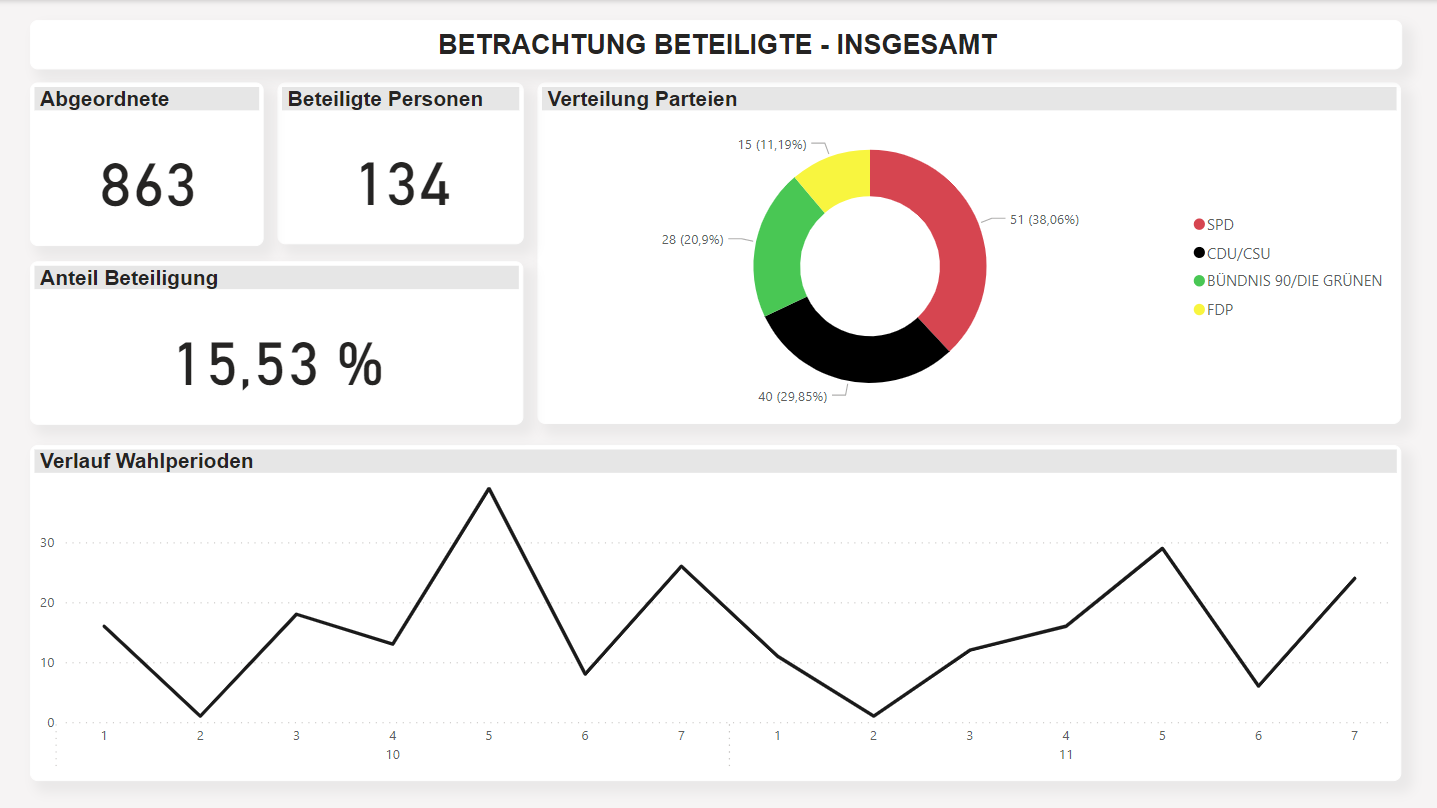

Layout of this report page (visuals, bound fields, positions):
{"tool":"powerbi","page":{"name":"Beteiligte","canvas":[1280,720],"ordinal":2},"visuals":[{"type":"lineChart","title":"Verlauf Wahlperioden","fields":{"Category":["RB.WAHLPERIODE","RB.NR"],"Y":["Measure_Table.% Beteiligte Personen"]},"box":[27.2,395.7,1220.7,299.6],"z":0},{"type":"donutChart","title":"Verteilung Parteien","fields":{"Y":["Count(RB.UID)"],"Category":["RB.PARTEI_KURZ"]},"box":[479,73.7,769,304.4],"z":1000},{"type":"card","title":"Beteiligte Personen","fields":{"Values":["Count(RB.UID)"]},"box":[246.7,73.7,219.5,144.2],"z":2000},{"type":"textbox","box":[26.6,17.5,1222,43.8],"z":3000},{"type":"card","title":"Abgeordnete","fields":{"Values":["Measure_Table.Abgeordnete"]},"box":[27.2,73.7,208.3,145.8],"z":4000},{"type":"card","title":"Anteil Beteiligung","fields":{"Values":["Measure_Table.% Beteiligte Personen"]},"box":[27.2,232.3,438.9,145.8],"z":5000}]}

Visuals, with their boxes in screenshot pixels (x1, y1, x2, y2), scaled from the page's 1280x720 canvas onto the 1437x808 screenshot:
"Verlauf Wahlperioden" lineChart: 31, 444, 1401, 780
"Verteilung Parteien" donutChart: 538, 83, 1401, 424
"Beteiligte Personen" card: 277, 83, 523, 245
textbox: 30, 20, 1402, 69
"Abgeordnete" card: 31, 83, 264, 246
"Anteil Beteiligung" card: 31, 261, 523, 424
